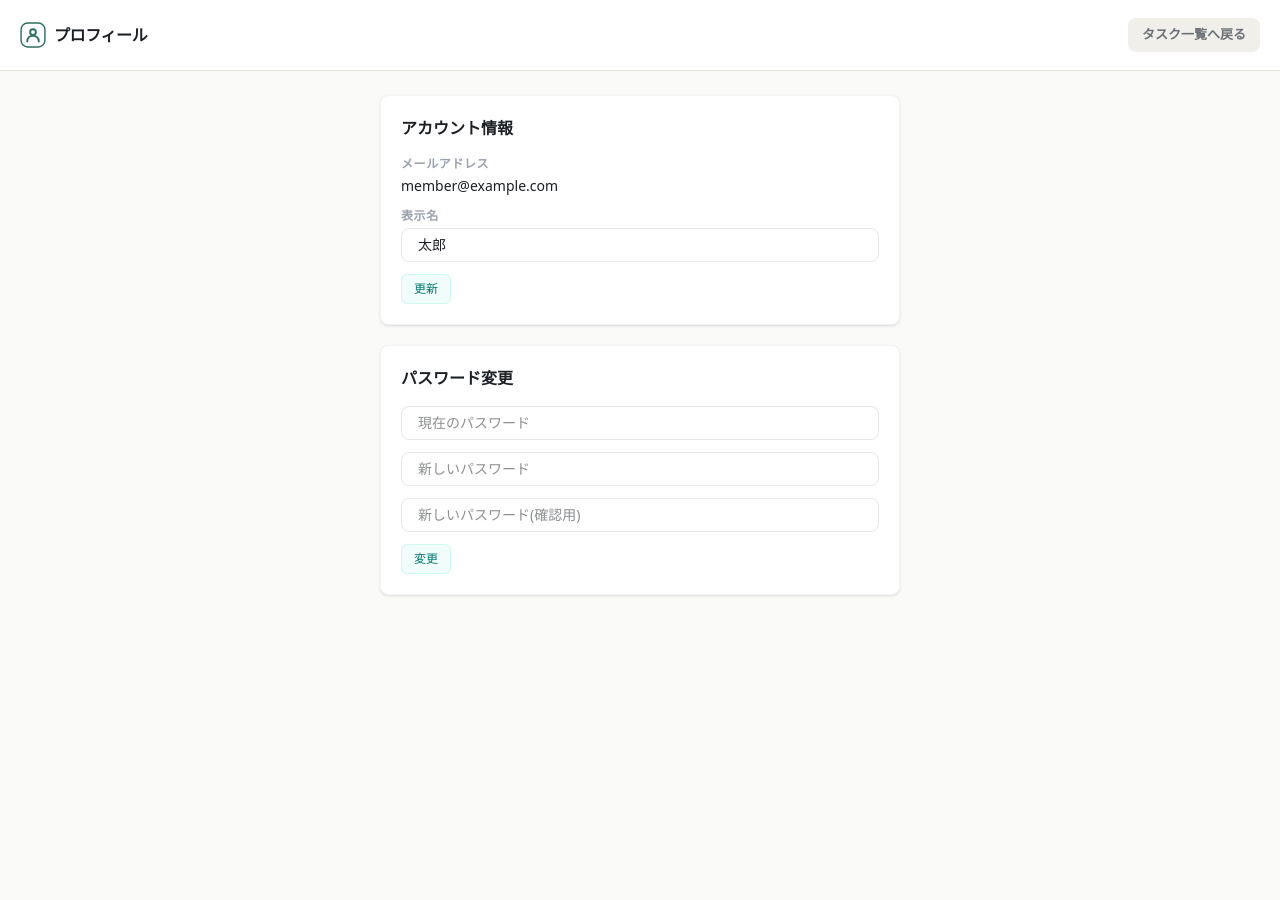
Test: ProfileForm › 表示名が空の場合、更新ボタンを押してもAPIは呼ばれずエラーメッセージが表示される
This screenshot has width=1280, height=900.
Clear the field showing "太郎". click: x=640, y=244
box: [401,228,879,262]
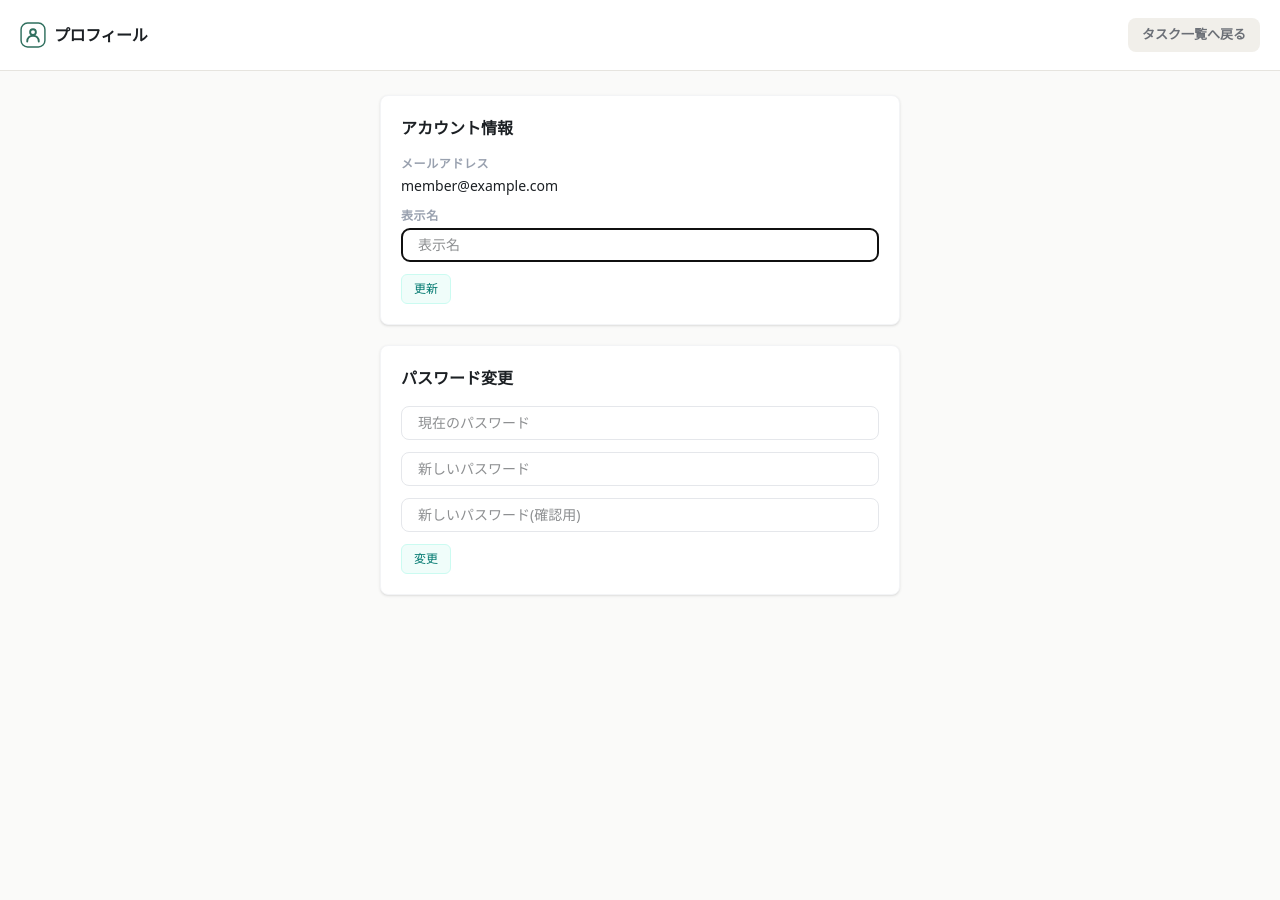
Click the button "更新". click: x=426, y=288
box: [401,274,451,304]
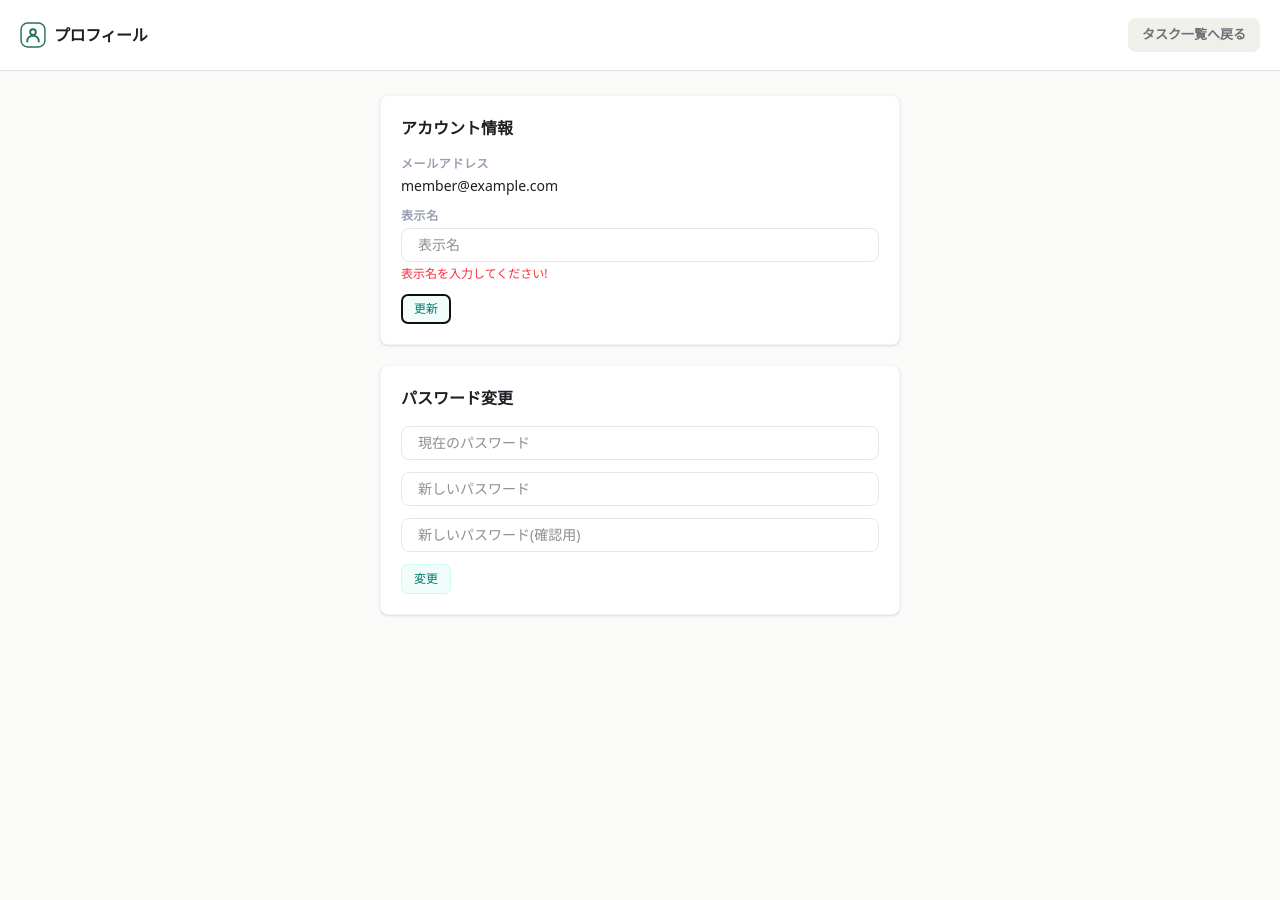
Now the text "表示名を入力してください!" is shown, box [401,264,548,282]
